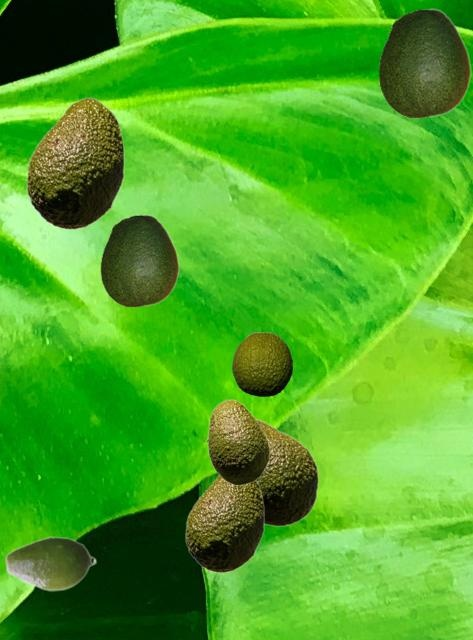avocado: (26, 97, 123, 229), (378, 8, 470, 117), (185, 475, 263, 572), (100, 214, 178, 306), (256, 418, 318, 526), (205, 399, 269, 484), (4, 535, 96, 591), (232, 332, 291, 395)
